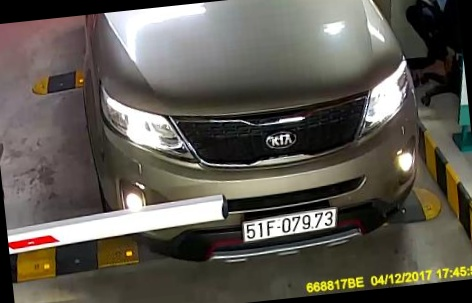plate: (238, 204, 342, 249)
